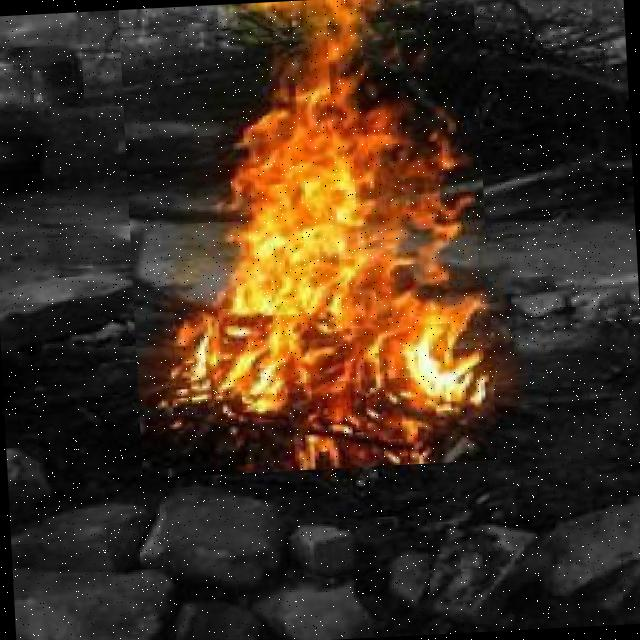fire: (118, 0, 497, 478)
